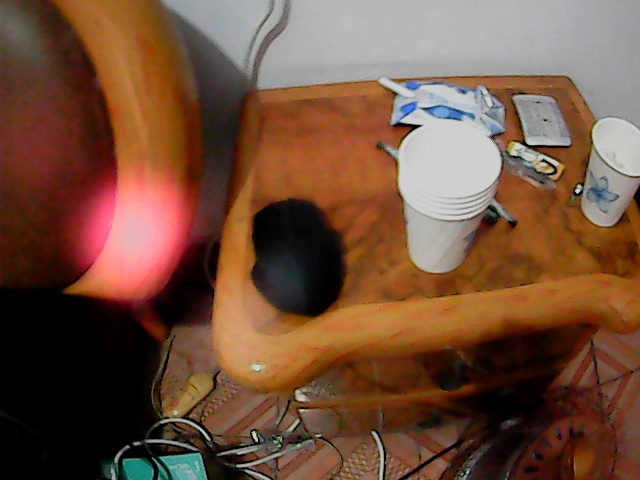cup: (398, 119, 500, 274)
mouse: (248, 193, 346, 317)
